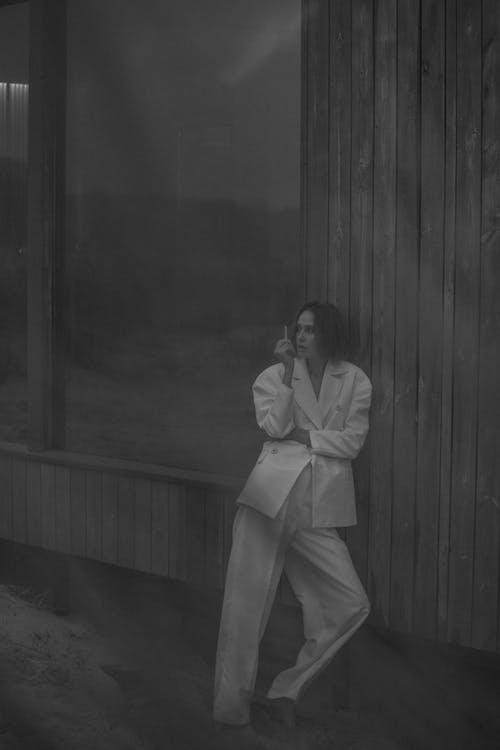cigarette: (282, 321, 289, 340)
